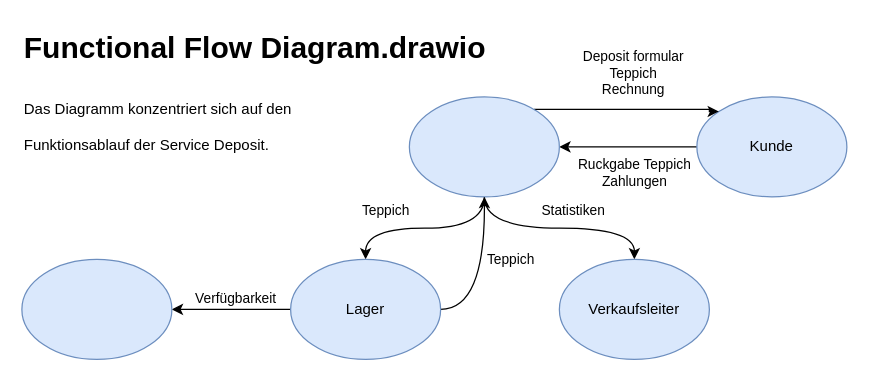
Image size: 869x381. Some labels were removed from this diagram. The shapes that lost their labels are listed below. From the top down, each one's box as (x1, y1, x2, y2) in pixels, then its label:
(408, 96, 559, 197): Verkäufer
(21, 258, 172, 359): Eshop
